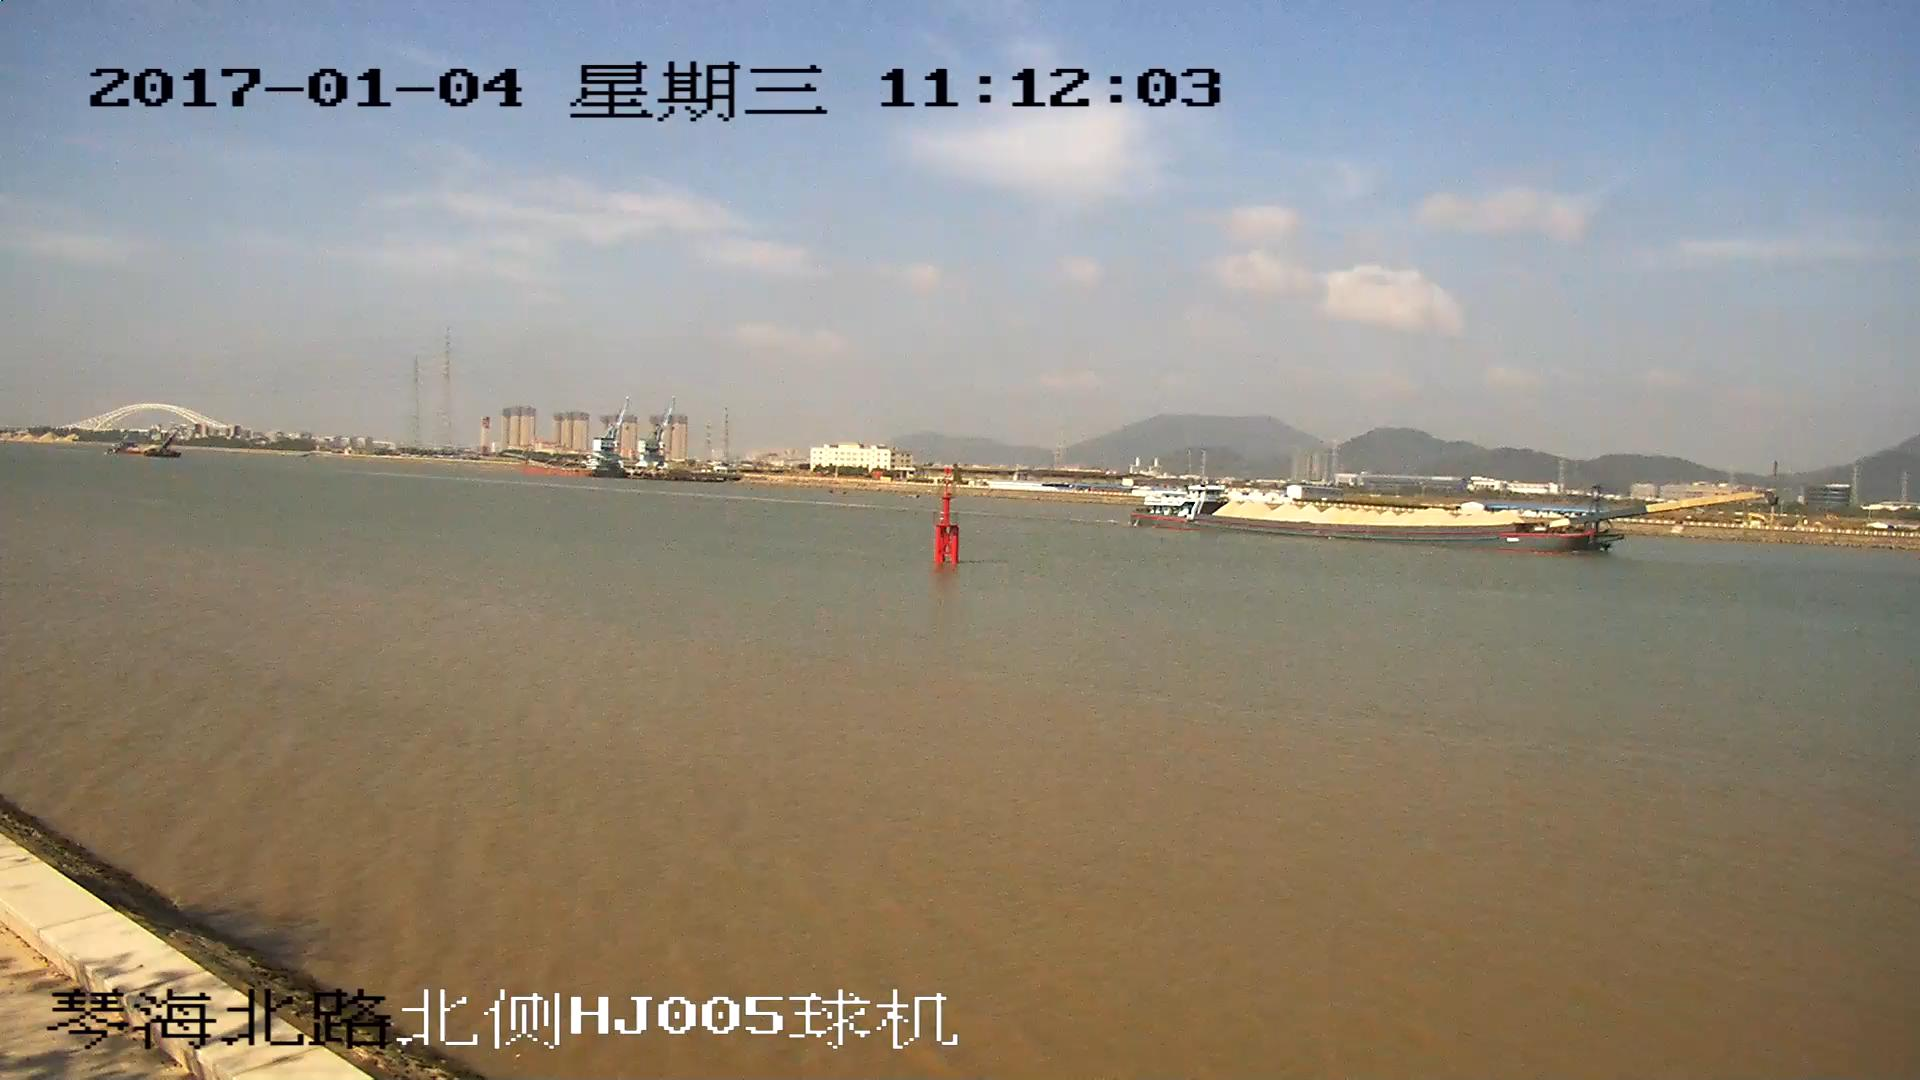ore carrier: (1138, 483, 1769, 551)
